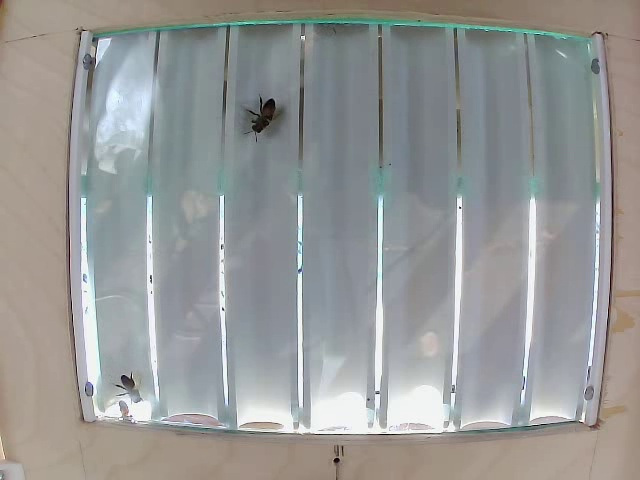bee: (244, 92, 290, 155), (111, 376, 156, 407)
